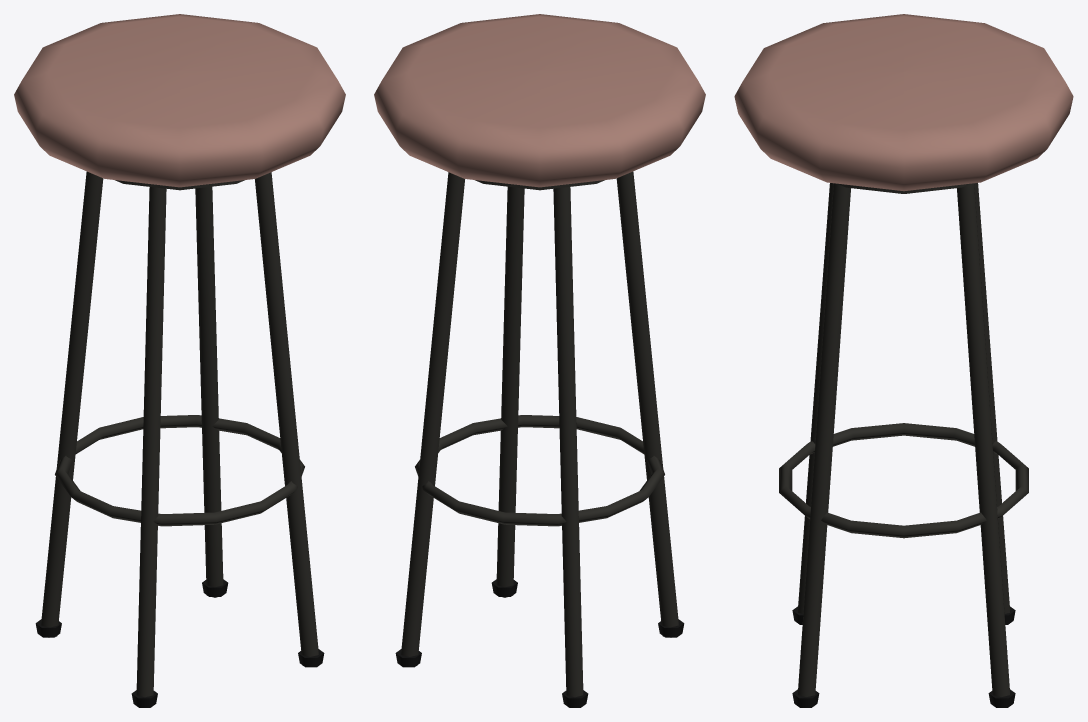
The model's file is bar-stool.glb.
3 views of the same model, side by side, from view 1: azimuth 30°, elevation 25°; view 2: azimuth 150°, elevation 25°; view 3: azimuth 270°, elevation 25° (orthographic). The views are drawn at different scales.
Parts seen in each view (by area): view 1: bar-stool-00, bar-stool-04, bar-stool-02, bar-stool-06, bar-stool-08, bar-stool-10; view 2: bar-stool-00, bar-stool-06, bar-stool-08, bar-stool-04, bar-stool-02, bar-stool-10; view 3: bar-stool-00, bar-stool-02, bar-stool-08, bar-stool-10, bar-stool-04, bar-stool-06.
Part boxes in pixels (x1,y1,x2,y2): bar-stool-00: (14, 14, 345, 187); bar-stool-04: (136, 187, 166, 697); bar-stool-02: (255, 172, 318, 665); bar-stool-06: (41, 171, 103, 636); bar-stool-08: (195, 186, 223, 597); bar-stool-10: (55, 415, 304, 526); bar-stool-00: (374, 14, 705, 187); bar-stool-06: (553, 187, 583, 697); bar-stool-08: (401, 172, 464, 665); bar-stool-04: (616, 171, 678, 636); bar-stool-02: (496, 186, 524, 597); bar-stool-10: (415, 415, 664, 526); bar-stool-00: (734, 14, 1073, 191); bar-stool-02: (798, 183, 850, 696); bar-stool-08: (957, 183, 1009, 696); bar-stool-10: (779, 423, 1028, 538); bar-stool-04: (798, 183, 833, 613); bar-stool-06: (974, 183, 1009, 613).
Bounding box in the file's own units: 0.396 × 0.7616 × 0.396.
